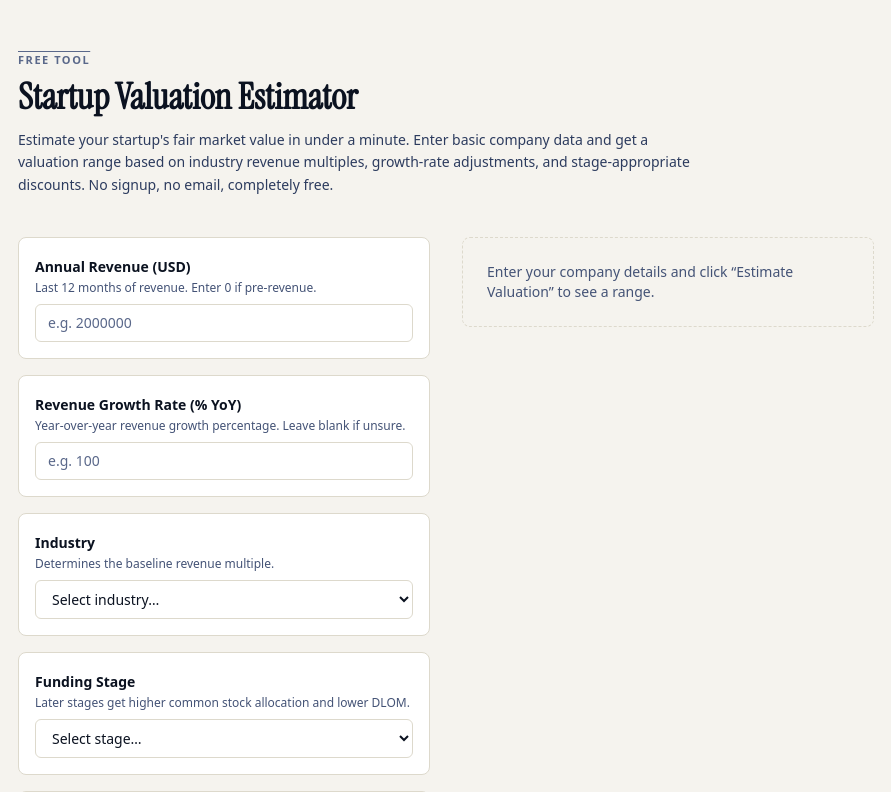
Scenario: ValuationEstimatorPage › renders the CTA to register after estimation
Type "5000000" into the number field labelled "Annual Revenue (USD)".
click(224, 323); type("5000000")  # box [35,304,413,342]
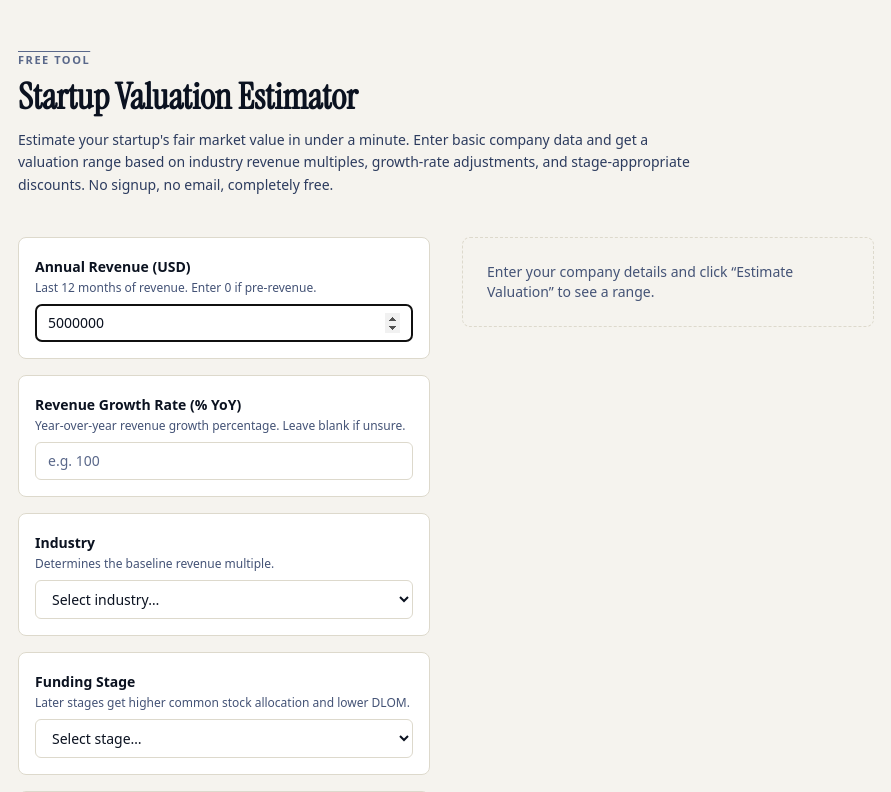
Select "Enterprise Software" in the dropdown labelled "Industry" at (224, 599), box [35,580,413,619]
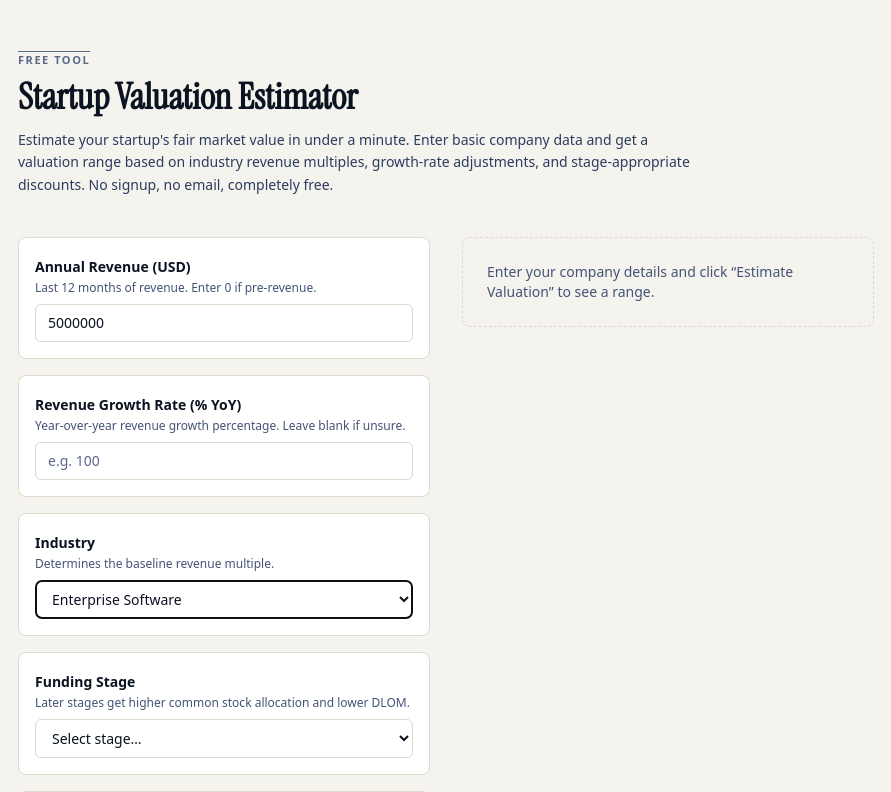
Select "Series B" in the dropdown labelled "Funding Stage" at (224, 738), box [35,719,413,758]
(page scrolled)
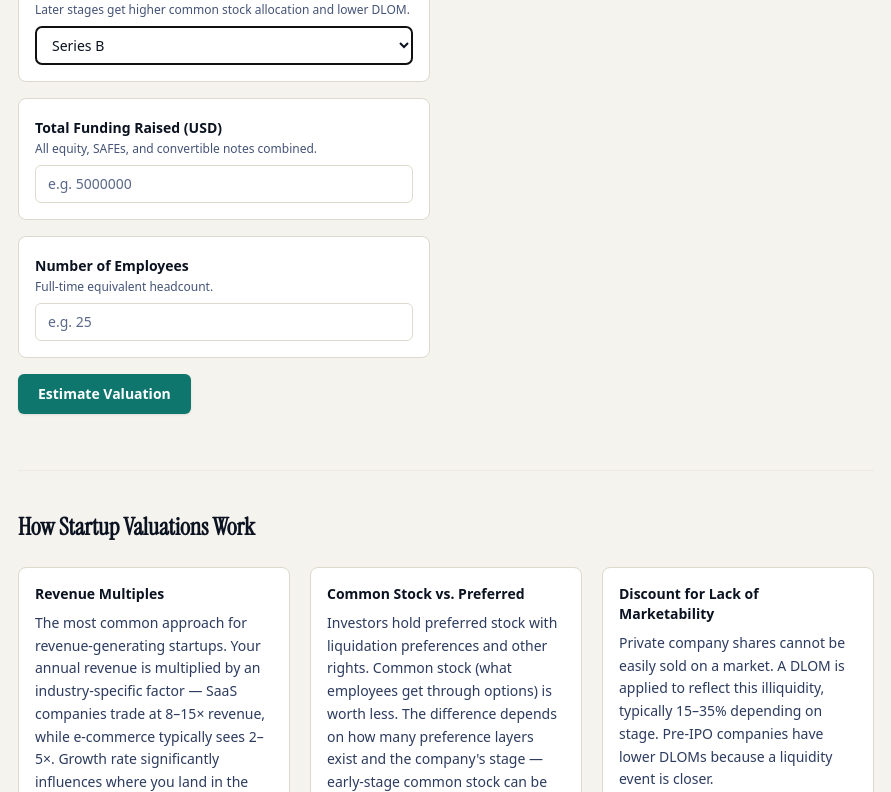
Click the button with test id "estimate-button".
click(104, 394)  # box [18,374,191,414]
(page scrolled)
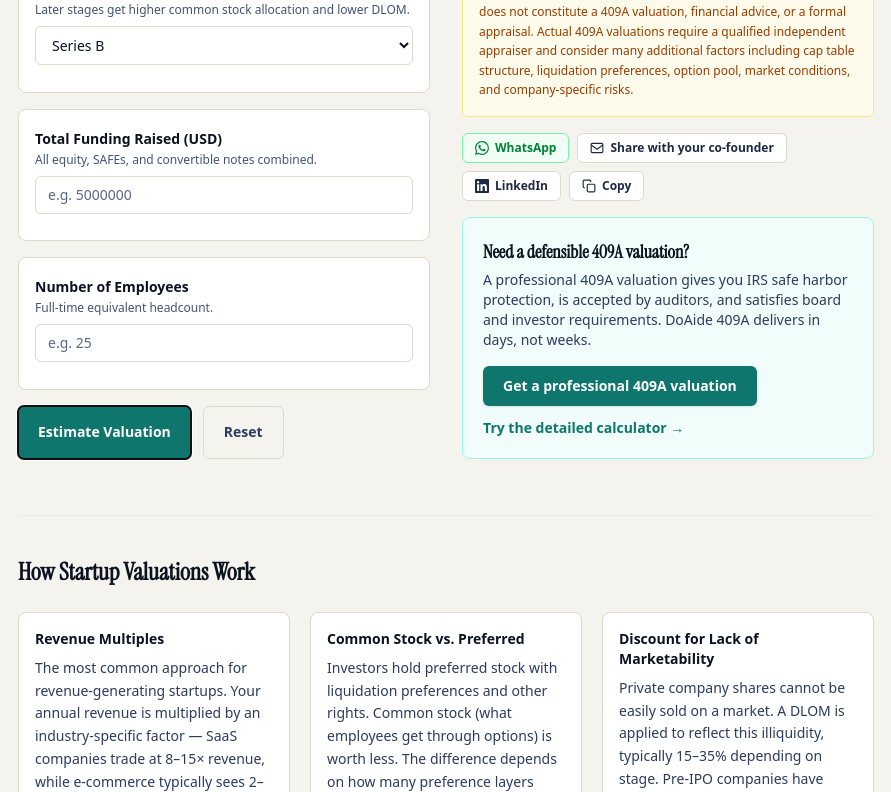
Expected: the link with test id "cta-register" reads "Get a professional 409A valuation", [483,366,757,406]
